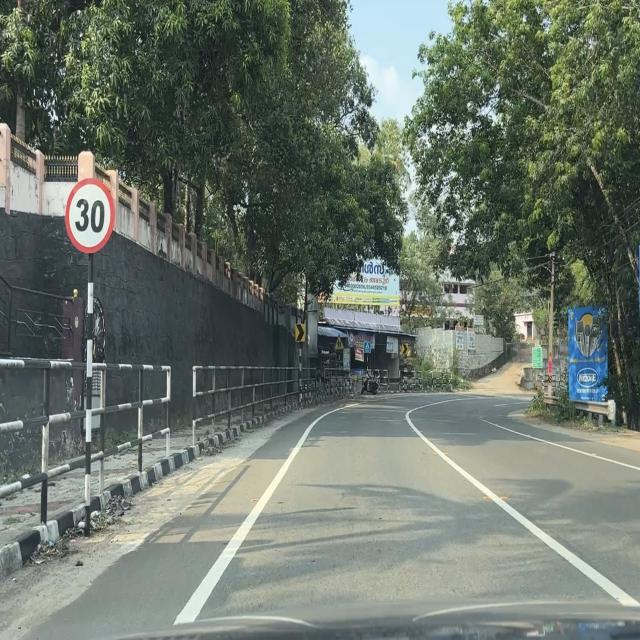SCHOOL_AHEAD: (334, 334, 344, 351)
SPEED_LIMIT_30: (64, 177, 116, 255)
TURN_RIGHT: (295, 323, 306, 342), (401, 344, 408, 354)
